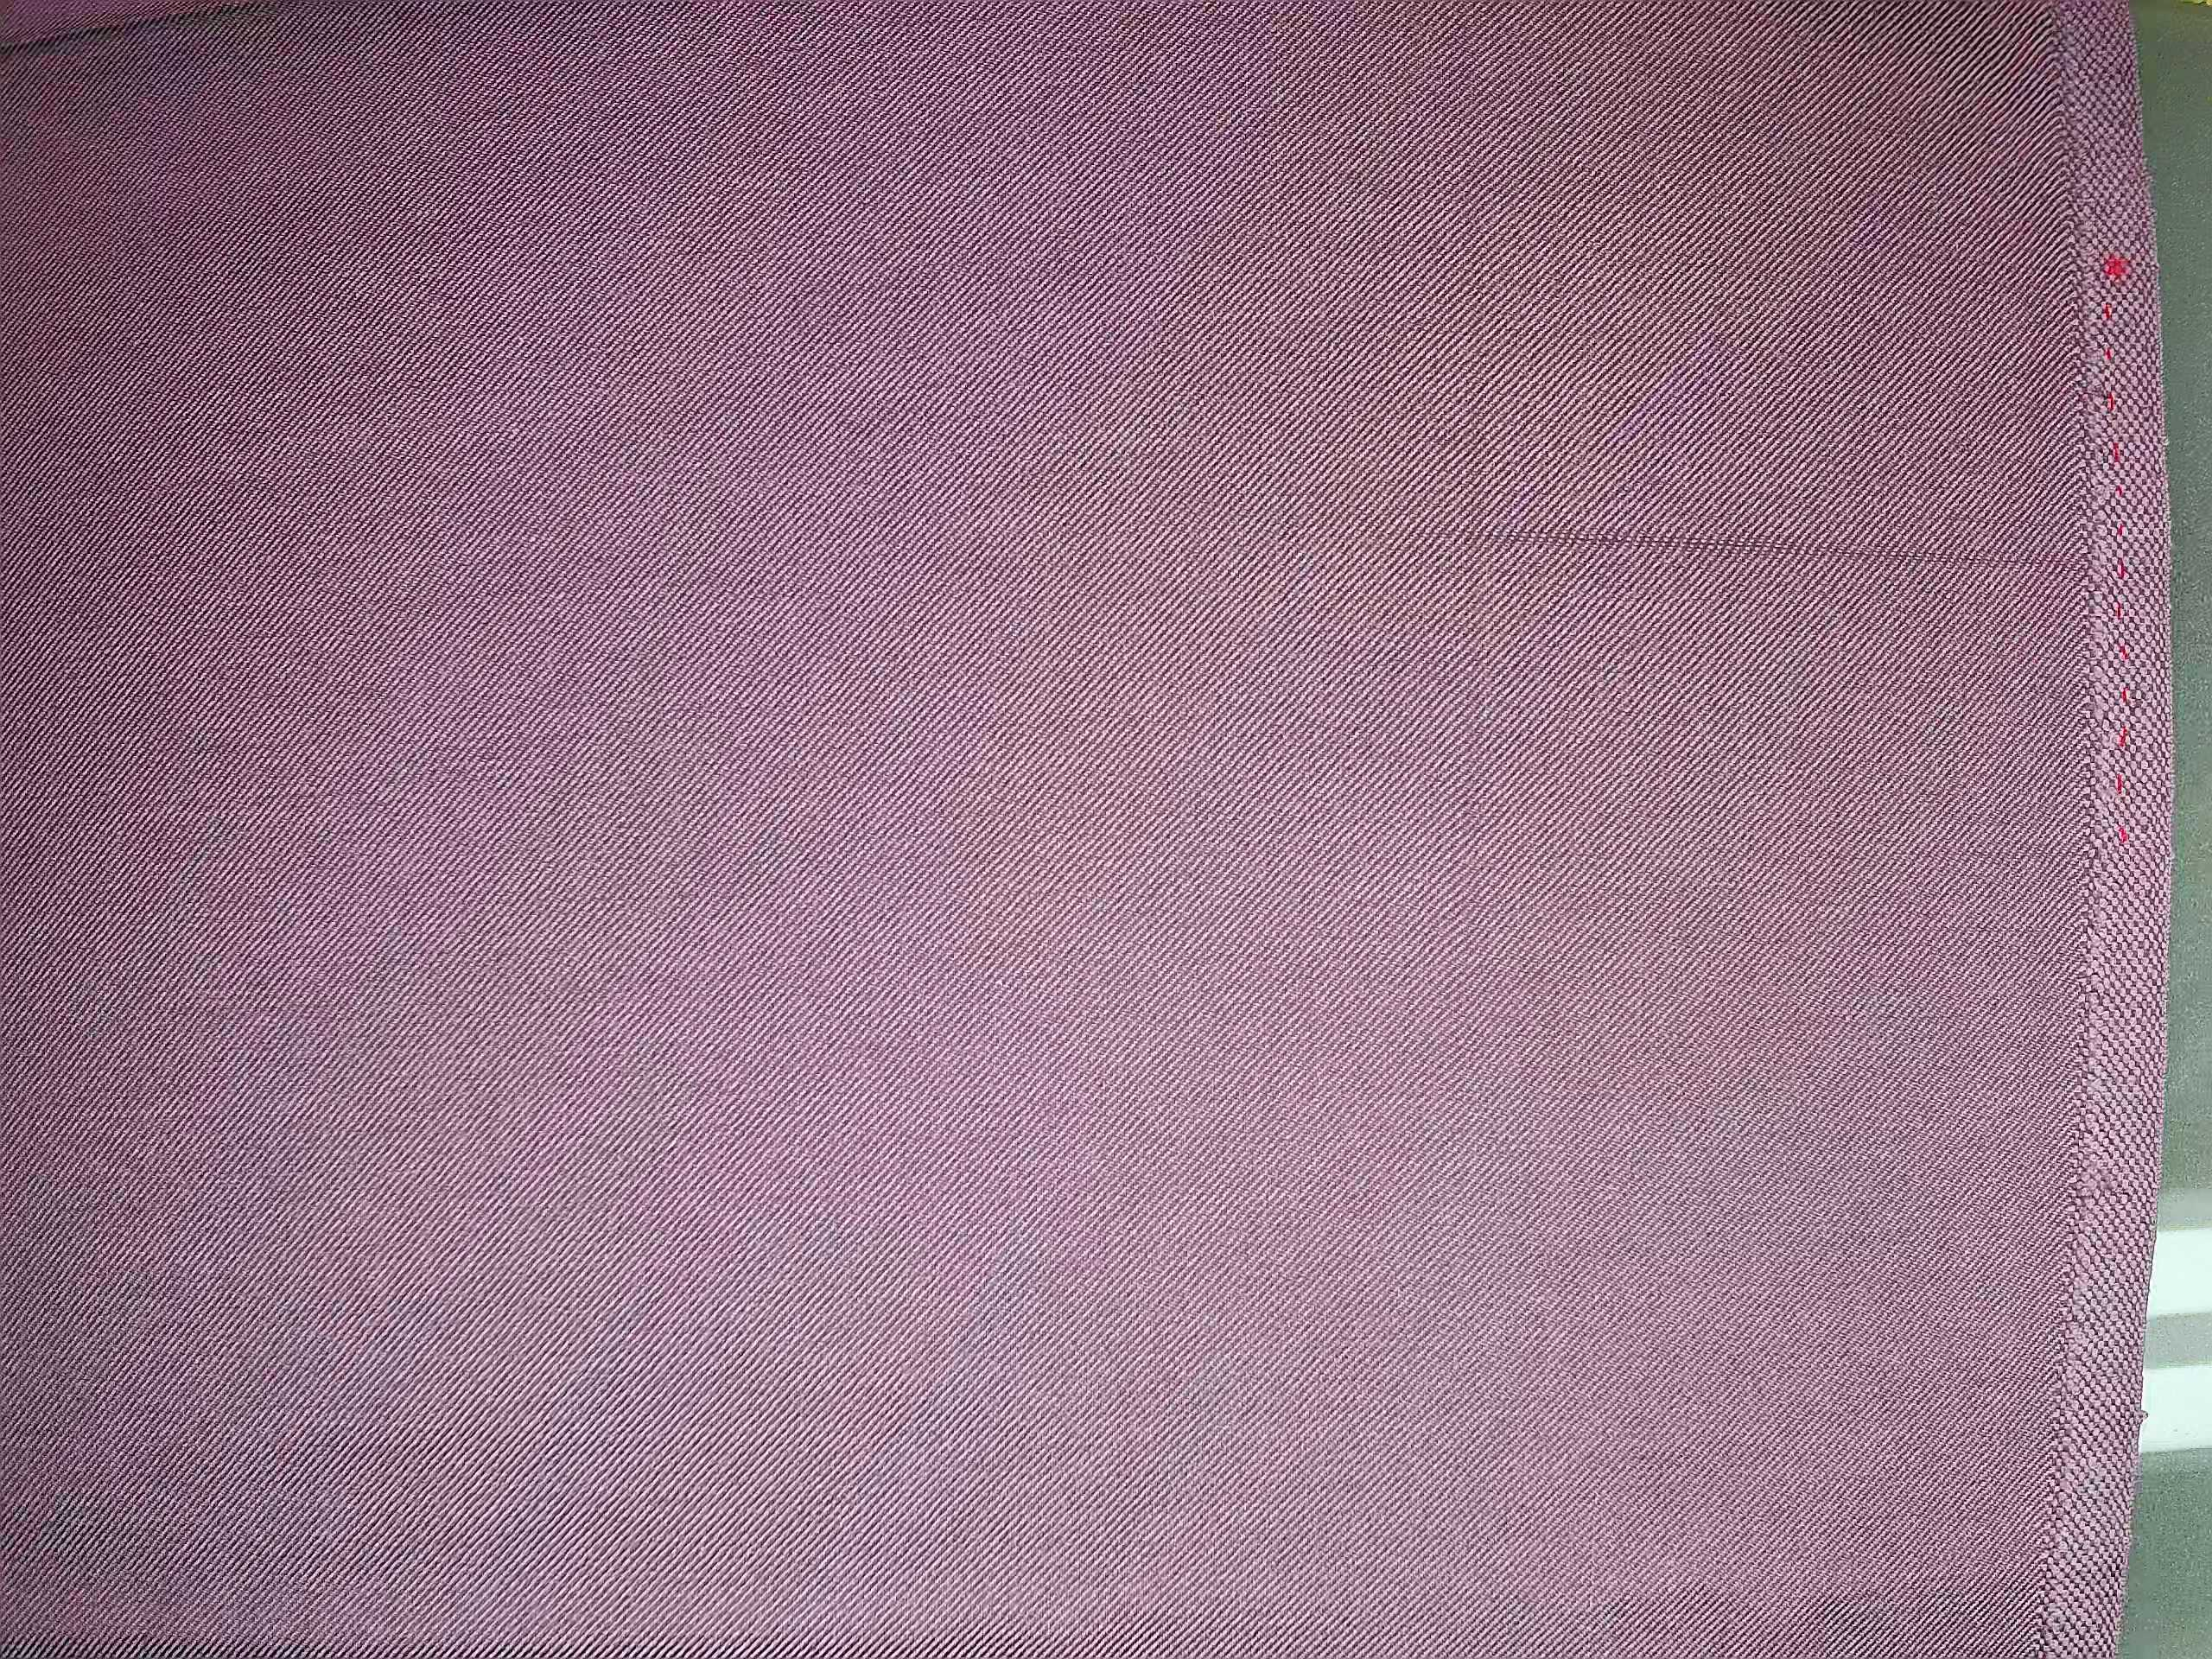thin-spinning: (1425, 514, 2092, 584)
